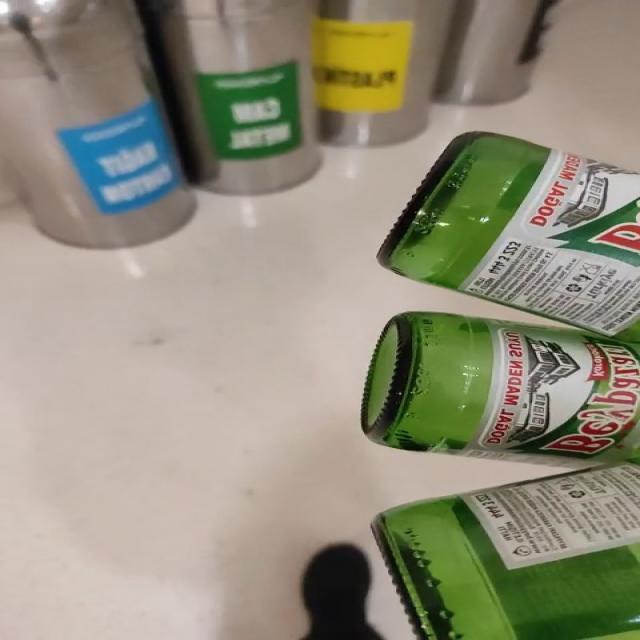Glass: (361, 132, 640, 640)
